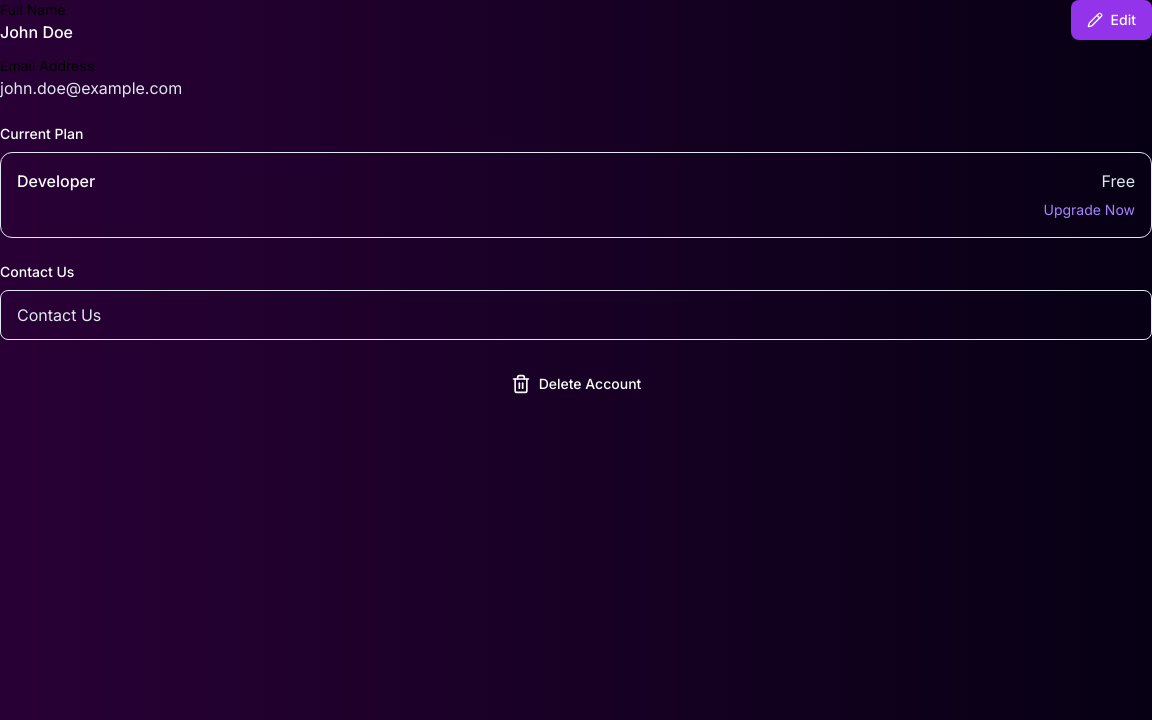
Test: ProfileSettings Component › should open delete account modal when delete account is clicked
Click the button "Delete Account": (576, 384) x1=0 y1=364 x2=1151 y2=404
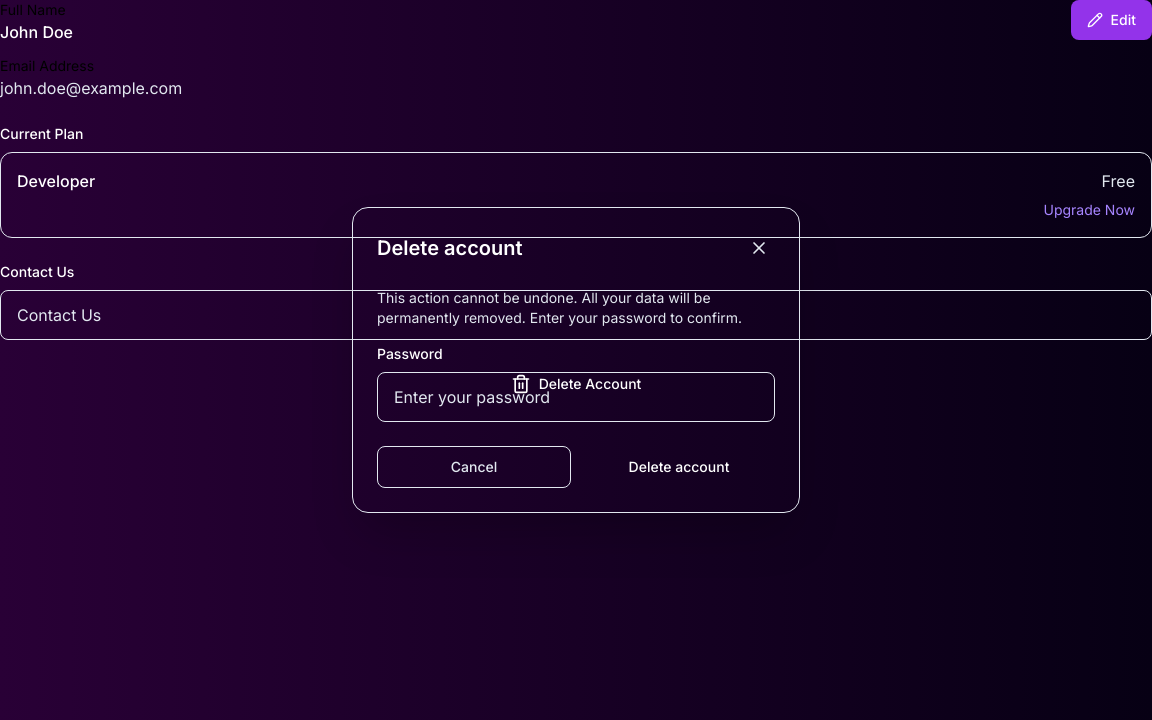
expect the dialog is shown: met, box x1=352 y1=207 x2=800 y2=513
expect the password field labelled "Password" is shown: met, box x1=377 y1=372 x2=775 y2=422
